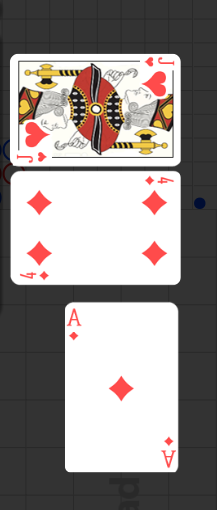4D: (143, 174, 175, 187)
AD: (159, 434, 175, 468)
JH: (143, 55, 175, 68)
